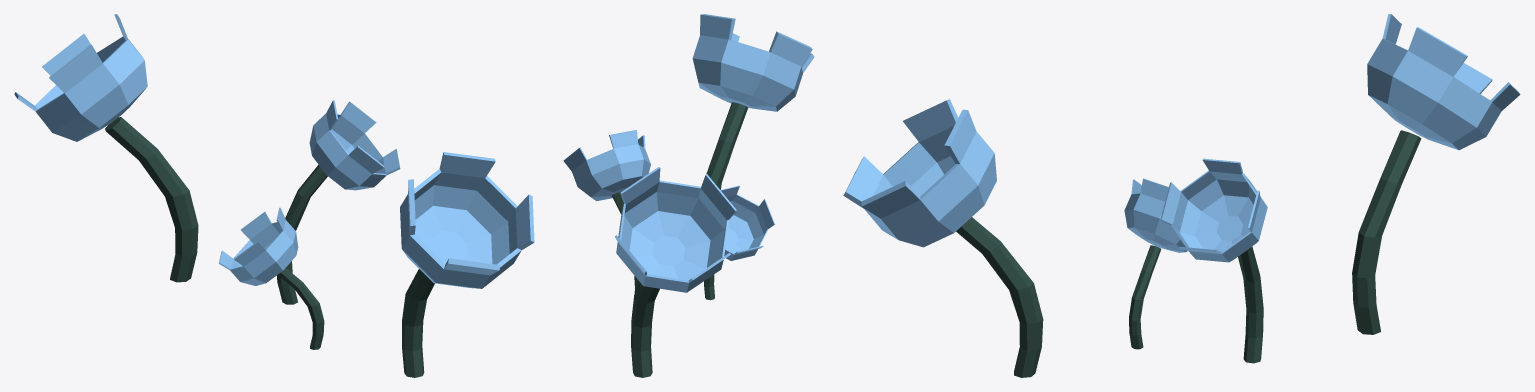
Rendered from Pot_2a_plantcluster.fbx.
3 views of the same model, side by side, from view 1: azimuth 30°, elevation 25°; view 2: azimuth 150°, elevation 25°; view 3: azimuth 270°, elevation 25° (orthographic). The views are drawn at different scales.
Visible parts, largest first — view 1: Circle.007; view 2: Circle.007; view 3: Circle.007.
Part boxes in pixels (bbox=[...]): Circle.007: bbox=[14, 14, 534, 377]; Circle.007: bbox=[563, 14, 814, 377]; Circle.007: bbox=[843, 14, 1520, 377].
Size of the model in its own units: 91.94 by 80.36 by 175.
